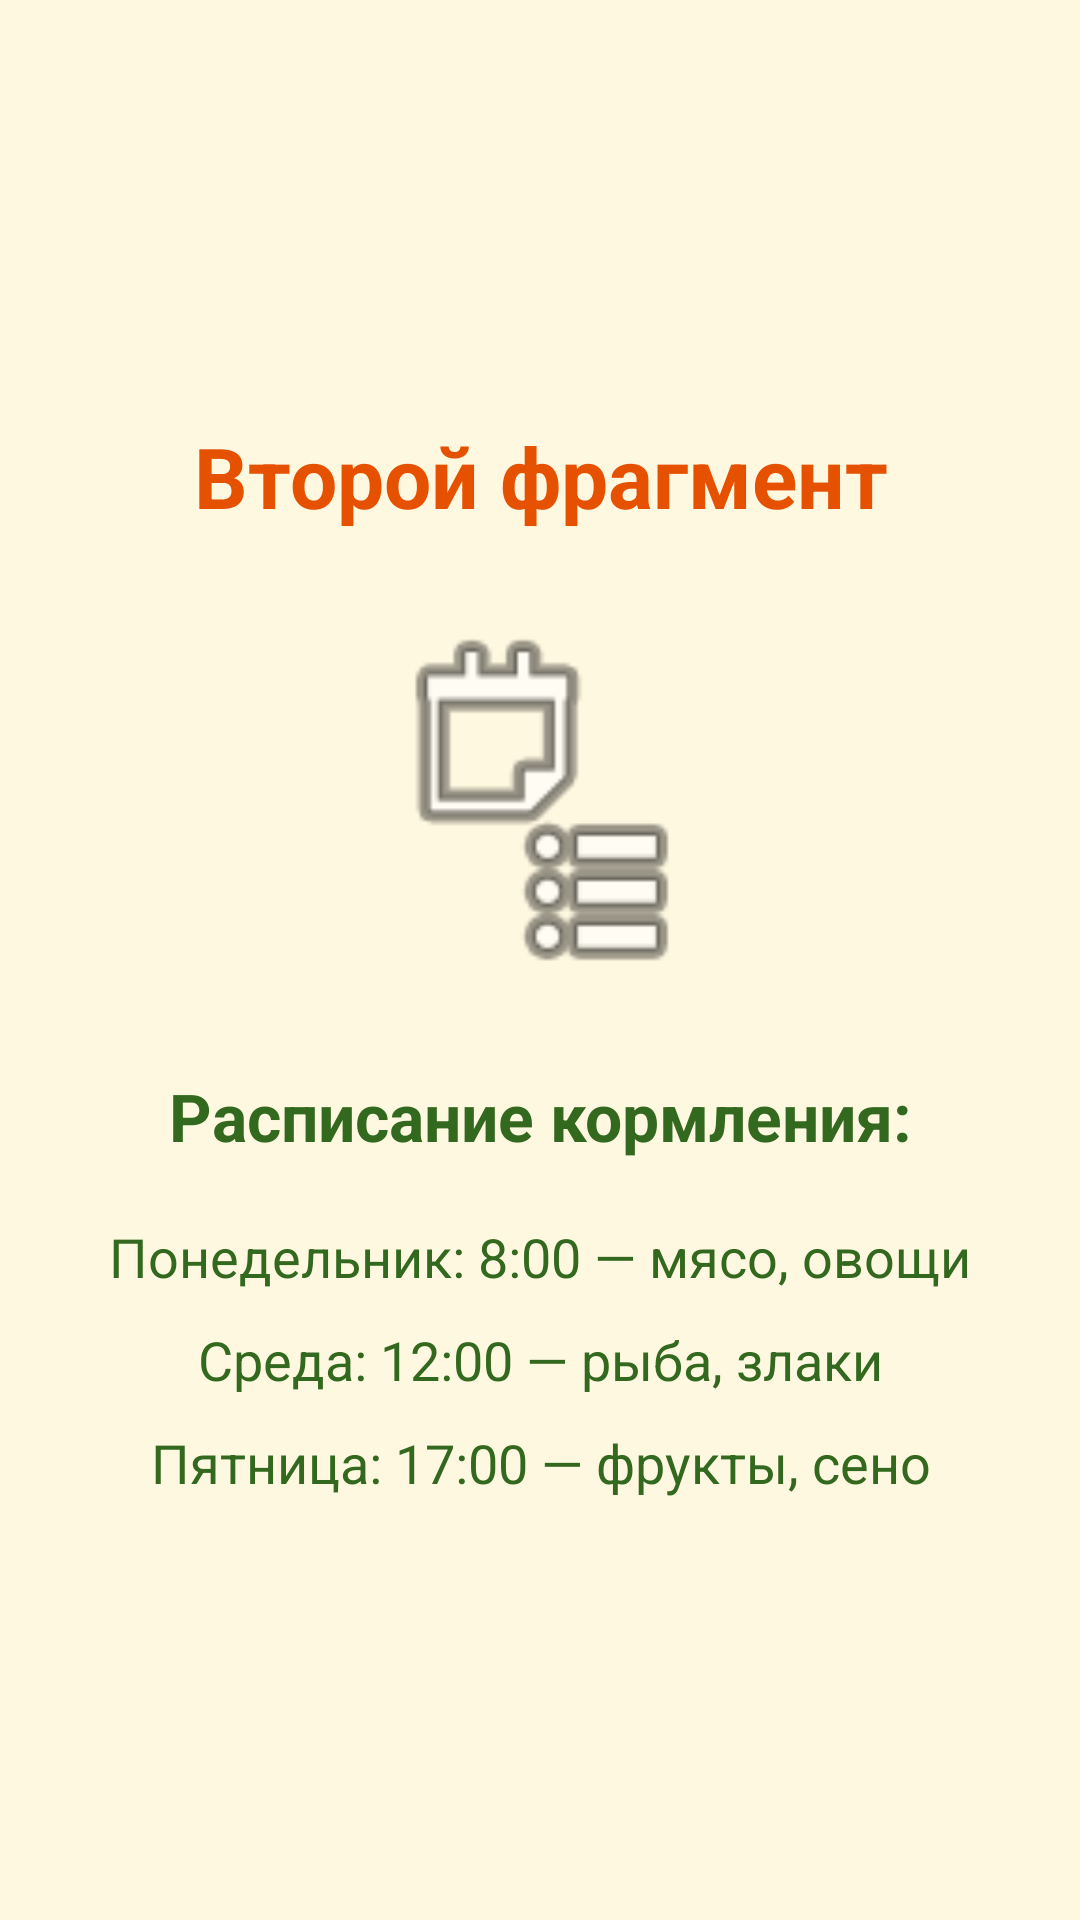

Where icons sit on this 1080×1920 app screen, as (x1, y1, x2, y2):
agenda: (415, 640, 668, 960)
